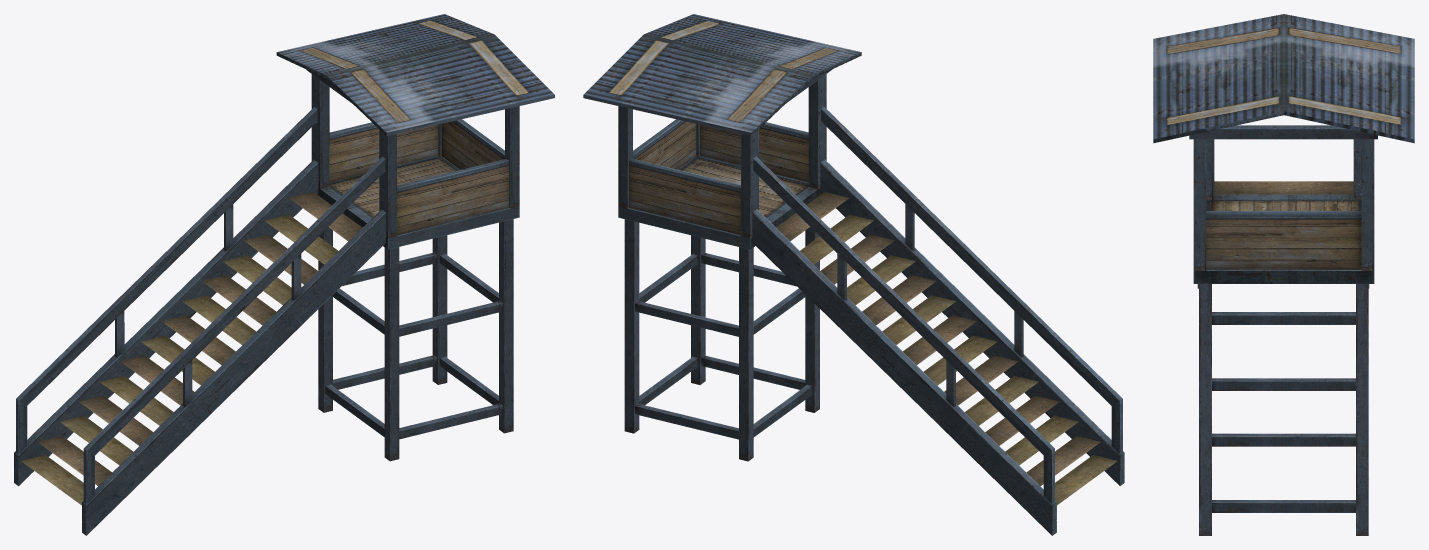
The model's file is Prop_Lwt01_v2_lod1.glb.
3 renders of one model, left to right at view 1: azimuth 30°, elevation 25°; view 2: azimuth 150°, elevation 25°; view 3: azimuth 270°, elevation 25°, orthographic. The views are drawn at different scales.
Parts seen in each view (by area): view 1: xiutz_lwt_01_lod1; view 2: xiutz_lwt_01_lod1; view 3: xiutz_lwt_01_lod1.
Boxes of the visible parts, x1=… form: xiutz_lwt_01_lod1: x1=14, y1=14, x2=554, y2=535; xiutz_lwt_01_lod1: x1=583, y1=14, x2=1124, y2=535; xiutz_lwt_01_lod1: x1=1153, y1=14, x2=1414, y2=535.
Bounding box in the file's own units: 11.95 × 9.3 × 5.08.
Materials: 1 (1 with a texture image).
